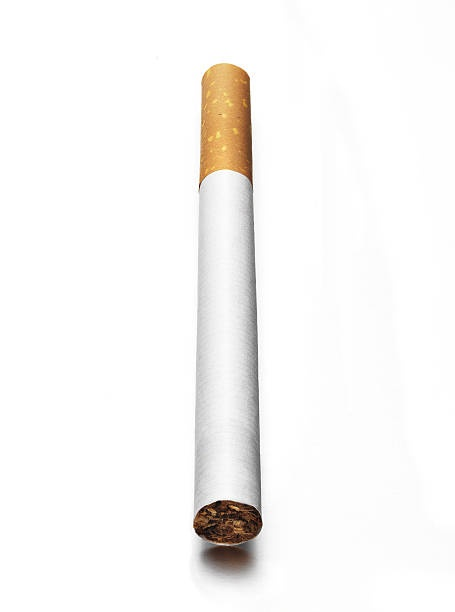sigaretta: (178, 60, 273, 560)
